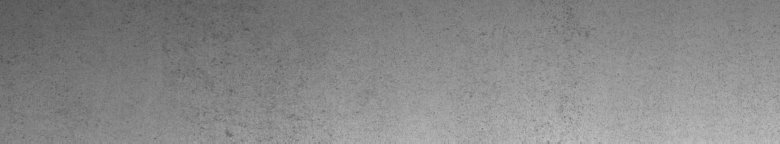ib: (178, 14, 303, 136)
